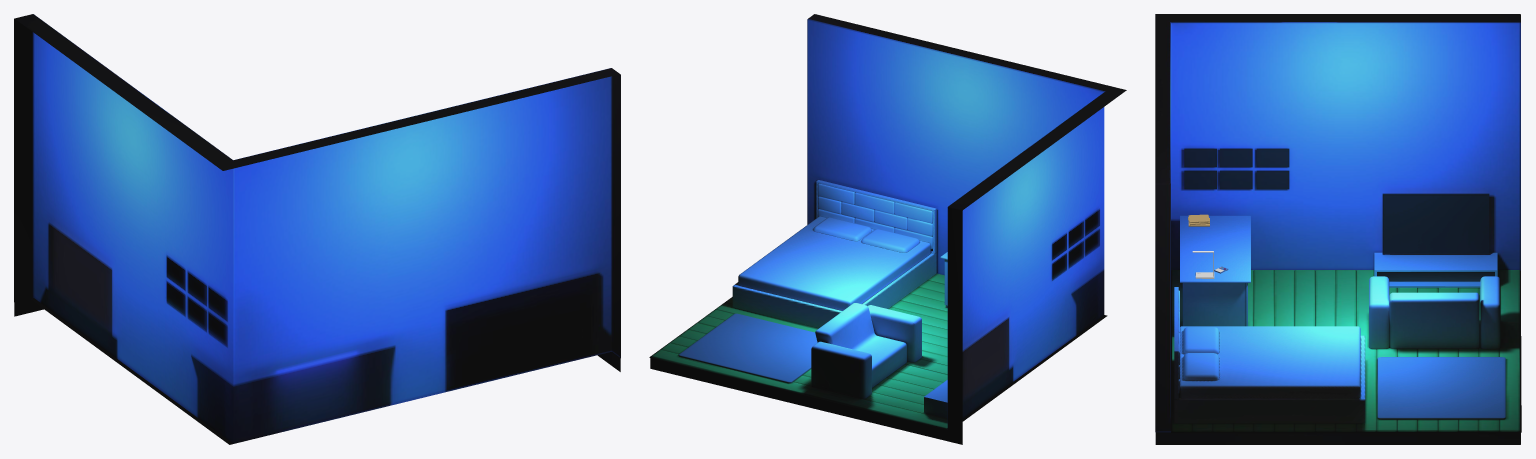
File: working_room_light.glb
3 renders of one model, left to right at view 1: azimuth 30°, elevation 25°; view 2: azimuth 150°, elevation 25°; view 3: azimuth 270°, elevation 25°, orthographic. The views are drawn at different scales.
Parts seen in each view (by area): view 1: Plane.001, Plane; view 2: Plane.001, floor_wood, cusion, carpet, Plane, base, sofa_1, sofa_2, sofa_3, pillow, pillow.001, top (+4 smaller); view 3: Plane.001, floor_wood, cusion, carpet, tv, Plane, base, sofa_1, desk.006, tv_stand, desk.005, sofa_3 (+10 smaller).
Part boxes in pixels (x1,y1,x2,y2): Plane.001: (14,14,620,443); Plane: (14,298,620,444); Plane.001: (807,14,1126,433); floor_wood: (651,273,947,429); cusion: (738,216,930,310); carpet: (678,313,817,383); Plane: (649,297,1107,444); base: (732,252,936,328); sofa_1: (815,303,906,387); sofa_2: (811,341,871,398); sofa_3: (867,305,921,362); pillow: (813,217,871,241); pillow.001: (861,229,919,252); top: (816,180,936,253); Plane.001: (1155,14,1520,432); floor_wood: (1172,270,1519,431); cusion: (1179,326,1360,398); carpet: (1377,357,1505,419); tv: (1382,193,1489,253); Plane: (1155,271,1521,444); base: (1174,335,1365,423); sofa_1: (1389,292,1479,349); desk.006: (1180,215,1250,282); tv_stand: (1374,252,1497,287); desk.005: (1182,283,1245,326); sofa_3: (1369,276,1389,349).
Bounding box in the file's own units: 2.57 × 1.84 × 2.34.
19 materials, 9 textured.
